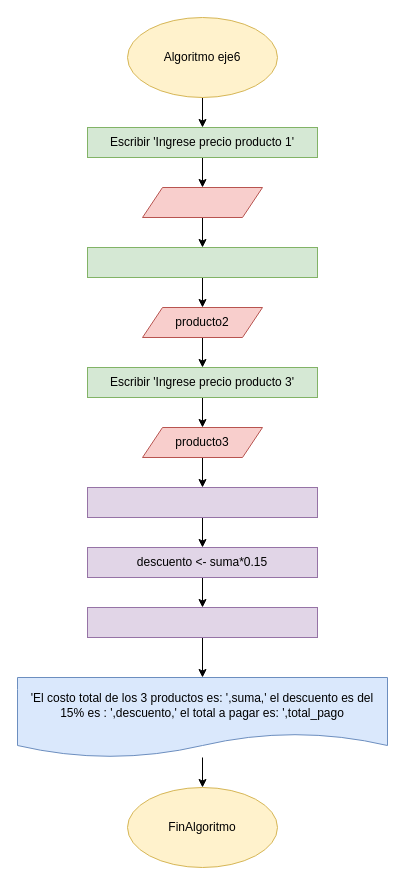
The diagram is 405 pixels wide and 885 high, and some of its shapes have lost their labels. Each missing label, with the box of its shape:
Escribir 'Ingrese precio producto 2': (86, 246, 318, 278)
producto1: (142, 186, 262, 218)
suma<-producto1+producto2+producto3: (86, 486, 318, 518)
total_pago <- suma-descuento: (86, 606, 318, 638)
